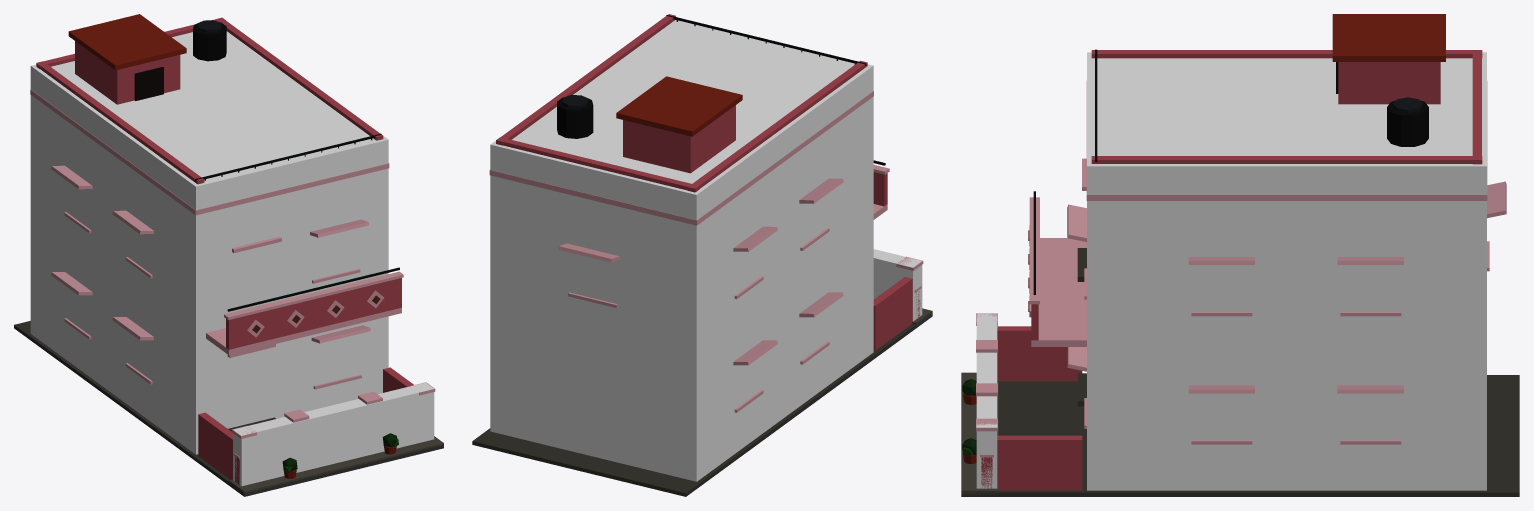
File: B04_compact_urban.glb
3 renders of one model, left to right at view 1: azimuth 30°, elevation 25°; view 2: azimuth 150°, elevation 25°; view 3: azimuth 270°, elevation 25°, orthographic. The views are drawn at different scales.
Parts seen in each view (by area): view 1: COL_Main, LOD0, COL_Compound; view 2: COL_Main, LOD0, COL_Compound; view 3: COL_Main, LOD0, COL_Compound.
Part boxes in pixels (x1,y1,x2,y2): COL_Main: (30,31,388,454); LOD0: (14,14,443,496); COL_Compound: (233,382,434,486); COL_Main: (490,17,873,481); LOD0: (472,14,932,496); COL_Compound: (873,249,922,321); COL_Main: (1087,52,1486,490); LOD0: (961,14,1519,496); COL_Compound: (976,313,997,488).
Size of what is drawn, in the model's own units: 6.65 by 9 by 12.
